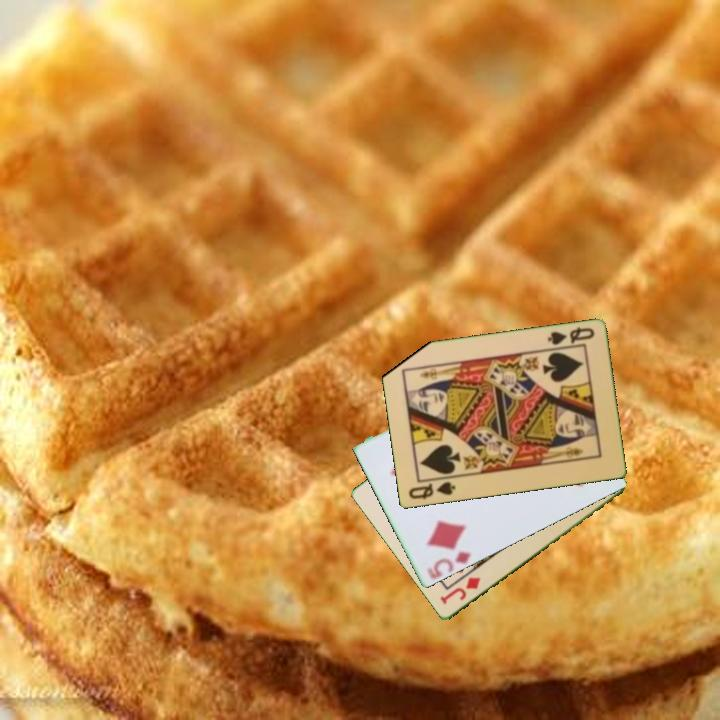5d: (423, 548, 474, 582)
Jd: (436, 574, 483, 607)
Qs: (544, 324, 597, 352), (405, 478, 458, 502)
